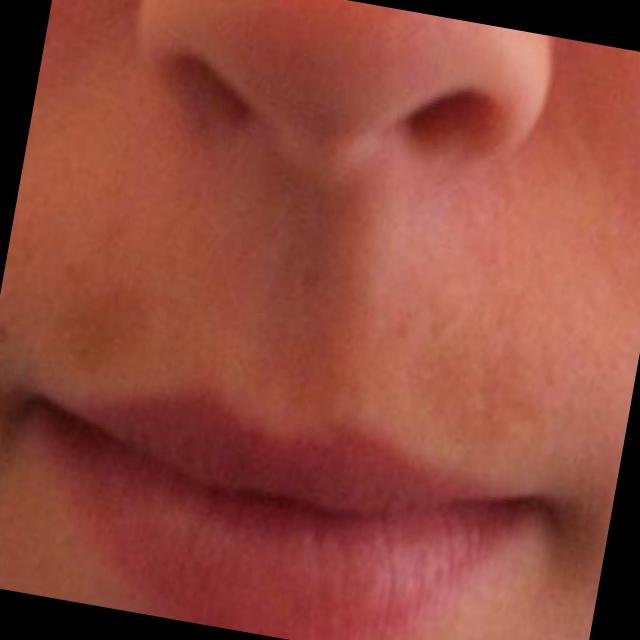melasma: (14, 175, 581, 489)
